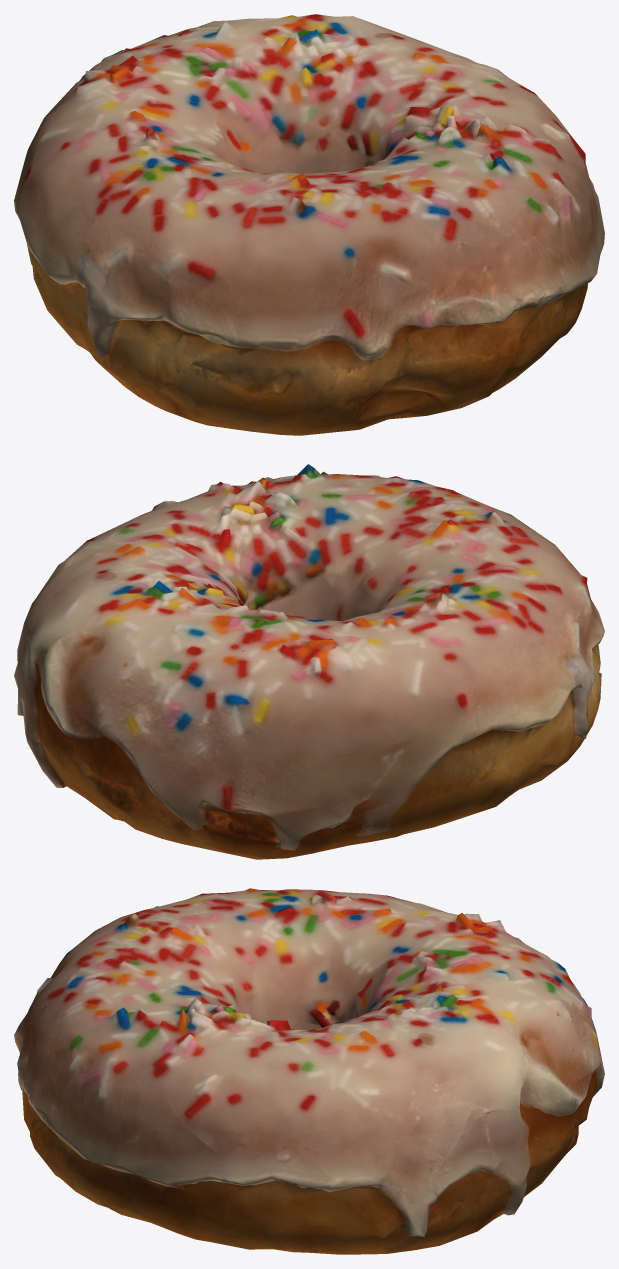
The model's file is donut_white.glb.
3 renders of one model, top to bottom at view 1: azimuth 30°, elevation 25°; view 2: azimuth 150°, elevation 25°; view 3: azimuth 270°, elevation 25°, orthographic. The views are drawn at different scales.
Visible parts, largest first — view 1: vcbjfbu_LOD0_TIER1_000; view 2: vcbjfbu_LOD0_TIER1_000; view 3: vcbjfbu_LOD0_TIER1_000.
Part boxes in pixels (x1,y1,x2,y2): vcbjfbu_LOD0_TIER1_000: (14,14,604,435); vcbjfbu_LOD0_TIER1_000: (14,464,604,859); vcbjfbu_LOD0_TIER1_000: (14,888,604,1254).
Size of the model in its own units: 0.0802 by 0.0338 by 0.0852.
Materials: 1 (1 with a texture image).
